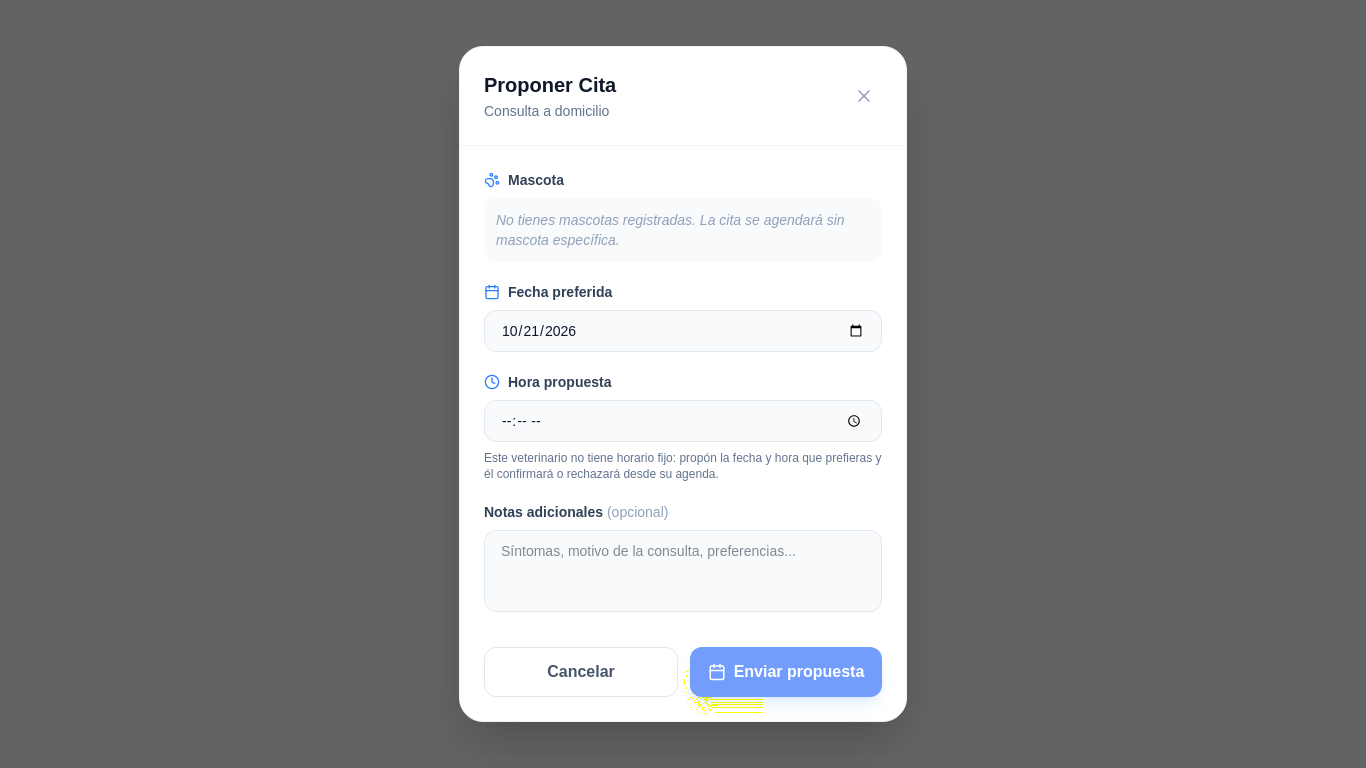
Test: AgendarCitaModal › veterinario sin horario configurado: el cliente propone la hora y se envia sin empresaId
Expected: the text "no tiene horario fijo" is shown, 484,451 -> 882,481
Expected: the heading "Proponer Cita" is shown, 484,71 -> 616,99
Type "16:30" into the time field at [683, 421], box 484,400 -> 882,442
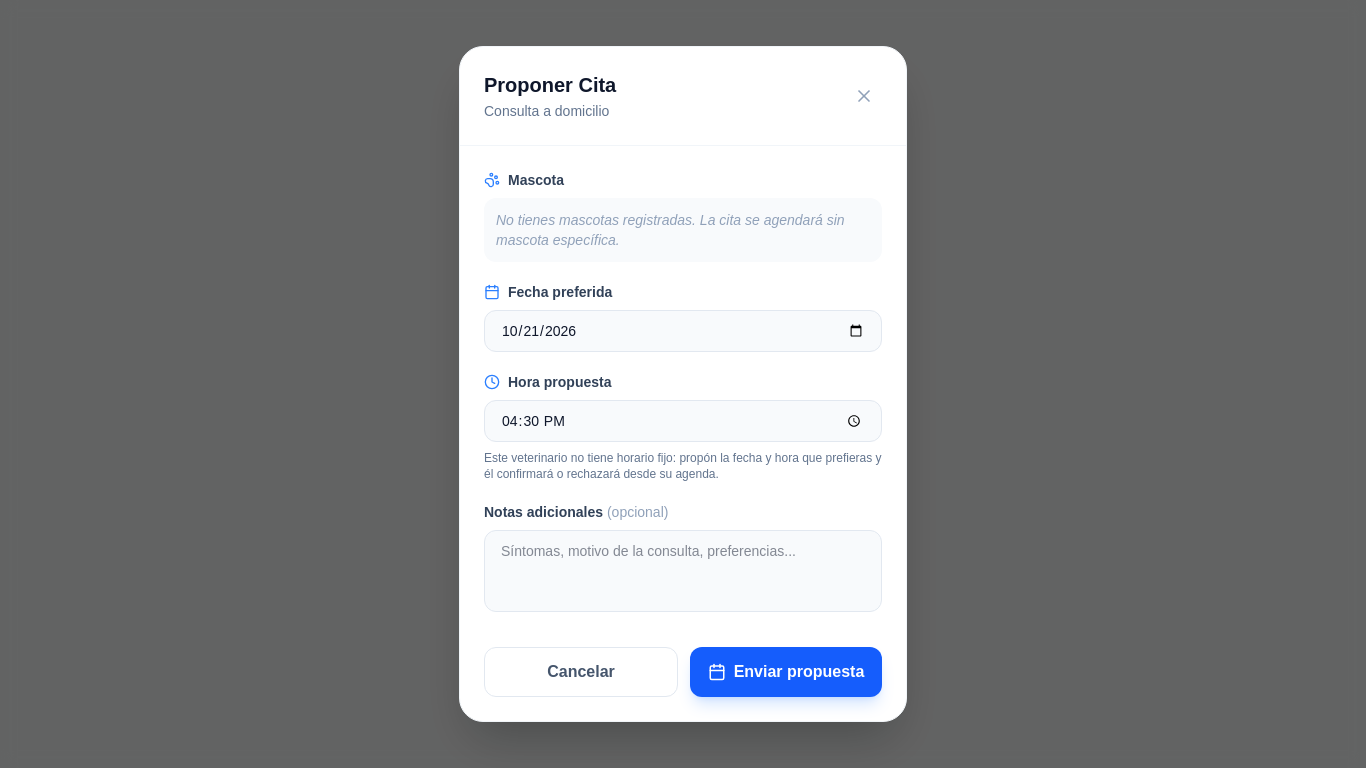
Click the button "Enviar propuesta" at [786, 672], box 690,647 -> 882,697
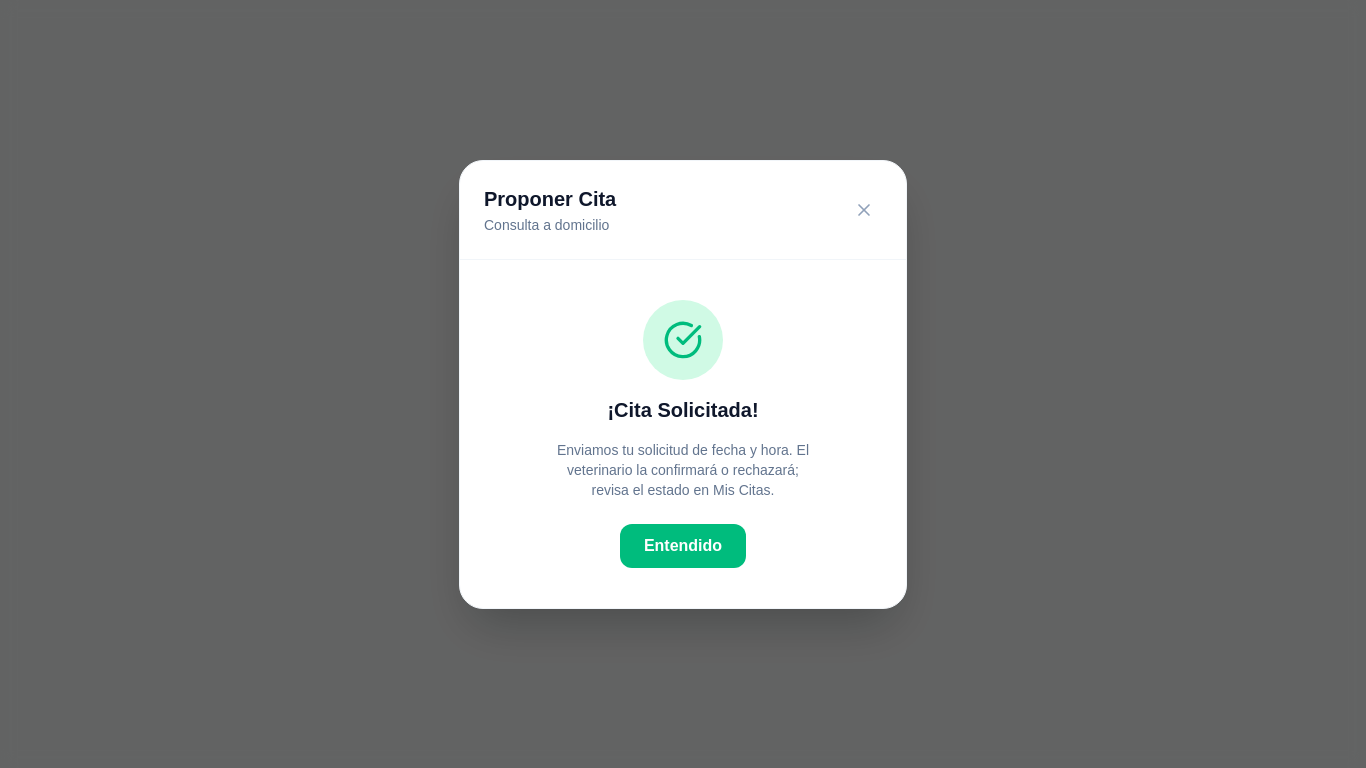
Expected: the text "El veterinario la confirmará o rechazará" is shown, 557,442 -> 809,498
